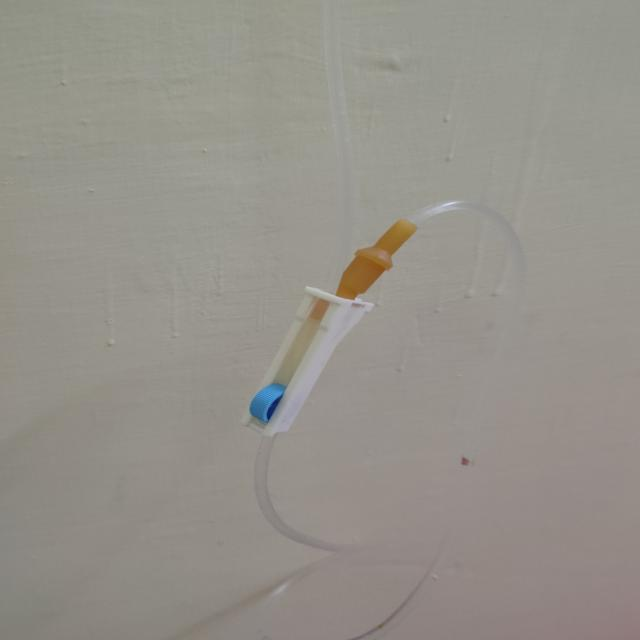B3: (188, 195, 582, 616)
